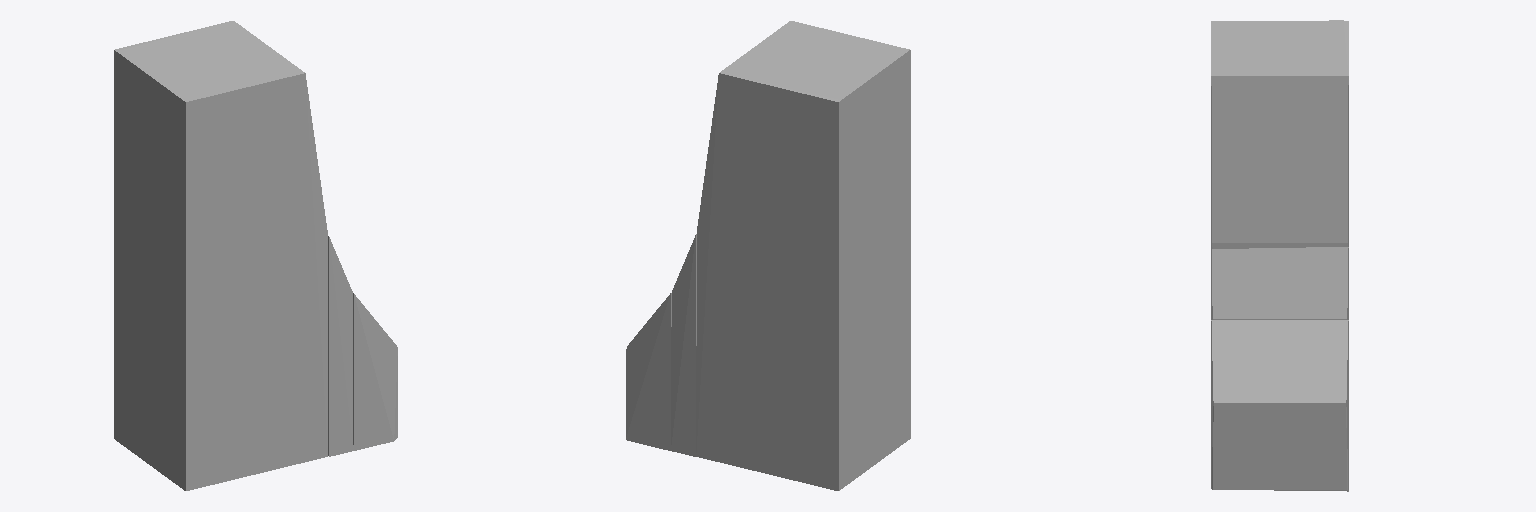
The robot description file, URDF, robot "root":
<robot name="root">
  <link name="link_Knight Shape_convex_piece_0">
    <inertial>
      <origin xyz="0 0 0" rpy="0 0 0"/>
      <mass value="2.60E-02"/>
      <inertia ixx="4.65E-05" ixy="-2.25E-08" ixz="3.79E-05" iyy="8.03E-05" iyz="2.22E-08" izz="4.29E-05"/>
    </inertial>
    <visual>
      <origin xyz="0 0 0" rpy="0 0 0"/>
      <geometry>
        <mesh filename="Knight Shape_convex_piece_0.obj" scale="1.0000E+00 1.0000E+00 1.0000E+00"/>
      </geometry>
      <material name="">
        <color rgba="7.50E-01 7.50E-01 7.50E-01 1"/>
      </material>
    </visual>
    <collision>
      <origin xyz="0 0 0" rpy="0 0 0"/>
      <geometry>
        <mesh filename="Knight Shape_convex_piece_0.obj" scale="1.0000E+00 1.0000E+00 1.0000E+00"/>
      </geometry>
    </collision>
  </link>
  <link name="link_Knight Shape_convex_piece_1">
    <inertial>
      <origin xyz="0 0 0" rpy="0 0 0"/>
      <mass value="2.13E-02"/>
      <inertia ixx="2.72E-05" ixy="-6.90E-08" ixz="1.47E-05" iyy="3.76E-05" iyz="6.14E-08" izz="1.79E-05"/>
    </inertial>
    <visual>
      <origin xyz="0 0 0" rpy="0 0 0"/>
      <geometry>
        <mesh filename="Knight Shape_convex_piece_1.obj" scale="1.0000E+00 1.0000E+00 1.0000E+00"/>
      </geometry>
      <material name="">
        <color rgba="7.50E-01 7.50E-01 7.50E-01 1"/>
      </material>
    </visual>
    <collision>
      <origin xyz="0 0 0" rpy="0 0 0"/>
      <geometry>
        <mesh filename="Knight Shape_convex_piece_1.obj" scale="1.0000E+00 1.0000E+00 1.0000E+00"/>
      </geometry>
    </collision>
  </link>
  <joint name="link_Knight Shape_convex_piece_1_joint" type="fixed">
    <origin xyz="0 0 0" rpy="0 0 0"/>
    <parent link="link_Knight Shape_convex_piece_0"/>
    <child link="link_Knight Shape_convex_piece_1"/>
  </joint>
  <link name="link_Knight Shape_convex_piece_2">
    <inertial>
      <origin xyz="0 0 0" rpy="0 0 0"/>
      <mass value="2.46E-01"/>
      <inertia ixx="4.33E-04" ixy="4.78E-08" ixz="2.06E-05" iyy="4.53E-04" iyz="-9.21E-08" izz="1.06E-04"/>
    </inertial>
    <visual>
      <origin xyz="0 0 0" rpy="0 0 0"/>
      <geometry>
        <mesh filename="Knight Shape_convex_piece_2.obj" scale="1.0000E+00 1.0000E+00 1.0000E+00"/>
      </geometry>
      <material name="">
        <color rgba="7.50E-01 7.50E-01 7.50E-01 1"/>
      </material>
    </visual>
    <collision>
      <origin xyz="0 0 0" rpy="0 0 0"/>
      <geometry>
        <mesh filename="Knight Shape_convex_piece_2.obj" scale="1.0000E+00 1.0000E+00 1.0000E+00"/>
      </geometry>
    </collision>
  </link>
  <joint name="link_Knight Shape_convex_piece_2_joint" type="fixed">
    <origin xyz="0 0 0" rpy="0 0 0"/>
    <parent link="link_Knight Shape_convex_piece_1"/>
    <child link="link_Knight Shape_convex_piece_2"/>
  </joint>
</robot>

--- Render facts (derived) ---
3 views of the same robot in one strip: view 1: azimuth 30°, elevation 25°; view 2: azimuth 150°, elevation 25°; view 3: azimuth 270°, elevation 25° (orthographic).
Robot: root — 3 links, 2 joints (2 fixed); root link link_Knight Shape_convex_piece_0; default pose: every joint at zero.
Links seen in each view (by area): view 1: link_Knight Shape_convex_piece_2, link_Knight Shape_convex_piece_0, link_Knight Shape_convex_piece_1; view 2: link_Knight Shape_convex_piece_2, link_Knight Shape_convex_piece_0, link_Knight Shape_convex_piece_1; view 3: link_Knight Shape_convex_piece_2, link_Knight Shape_convex_piece_0, link_Knight Shape_convex_piece_1.
Link boxes in pixels (x1,y1,x2,y2): link_Knight Shape_convex_piece_2: (114, 21, 327, 490); link_Knight Shape_convex_piece_0: (353, 293, 397, 450); link_Knight Shape_convex_piece_1: (328, 236, 353, 456); link_Knight Shape_convex_piece_2: (696, 21, 910, 490); link_Knight Shape_convex_piece_0: (626, 293, 671, 450); link_Knight Shape_convex_piece_1: (671, 234, 696, 456); link_Knight Shape_convex_piece_2: (1211, 20, 1348, 319); link_Knight Shape_convex_piece_0: (1211, 320, 1348, 491); link_Knight Shape_convex_piece_1: (1212, 247, 1348, 319).
Size in the robot's own frame: 0.0788 by 0.046 by 0.1377 metres.
Meshes: 3 distinct files referenced, 3 mesh visuals loaded (3 OBJ).
